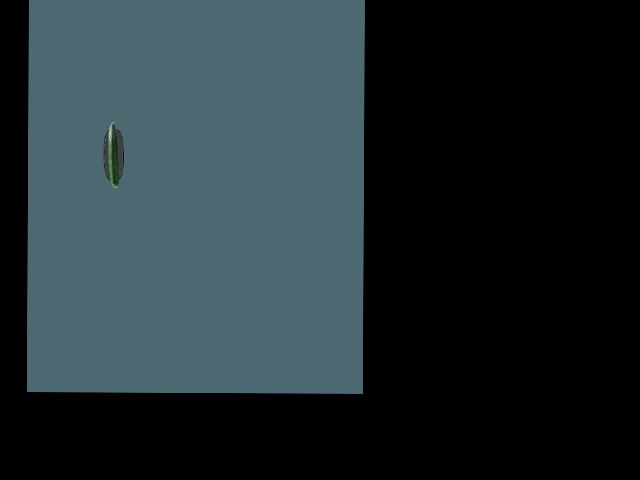cucumber: (108, 121, 119, 188)
